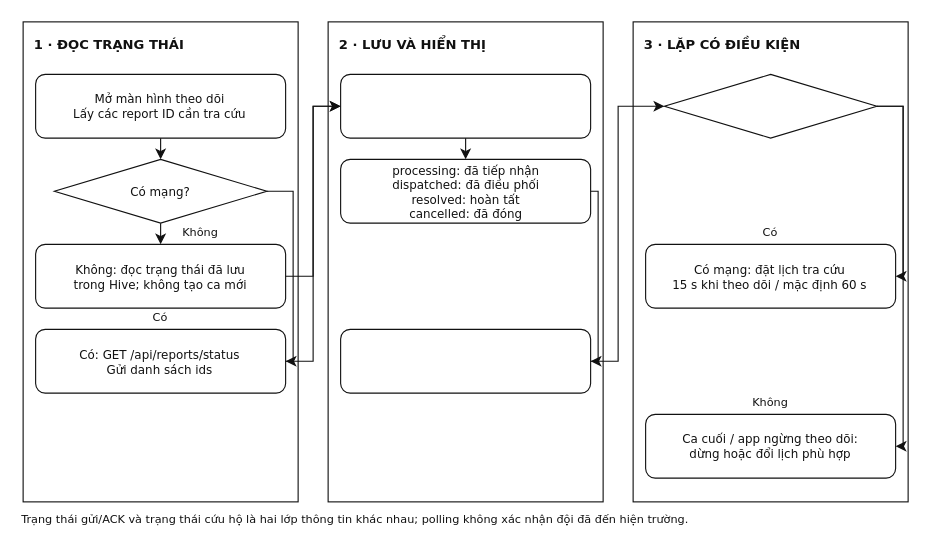
This 935x549 diagram has some shape labels left out. Here are the shapes that lost their labels. From the top down, the box of each, then its label:
(340, 73, 591, 138): Ghép kết quả theo report ID Chỉ nhận trạng thái đi tiến
(663, 73, 877, 138): Còn ca chưa kết thúc và app ở foreground?
(340, 328, 591, 393): Lưu Hive; cập nhật timeline Thông báo trạng thái nghiệp vụ
